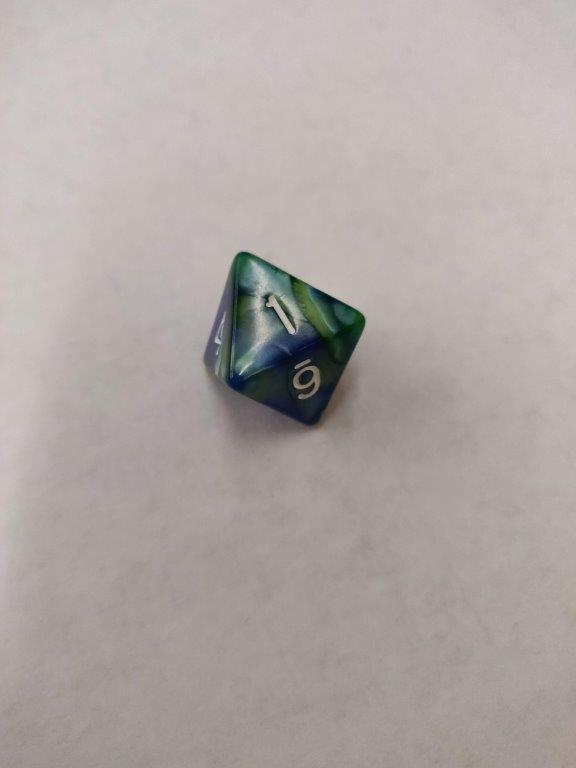d8-1: (200, 252, 367, 428)
